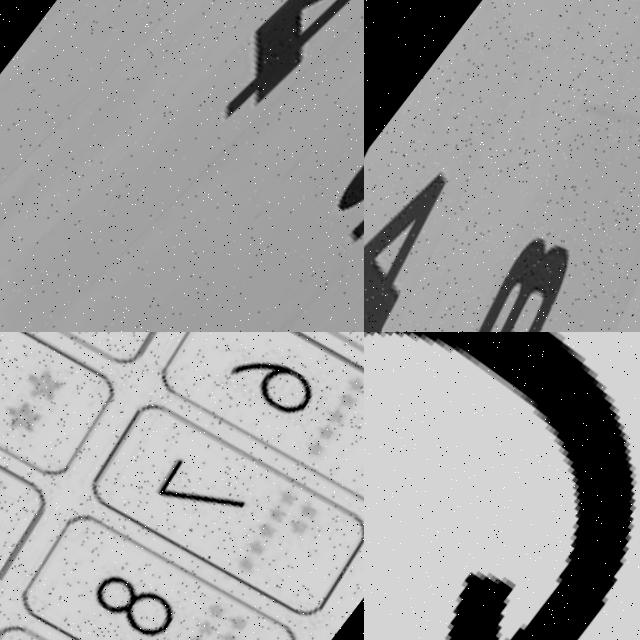2: (295, 6, 364, 290)
4: (153, 0, 364, 196), (364, 118, 514, 332)
6: (218, 333, 330, 442)
7: (153, 450, 257, 550)
8: (395, 188, 636, 332), (110, 0, 351, 39), (84, 559, 188, 640)
Q: (364, 332, 640, 640)
